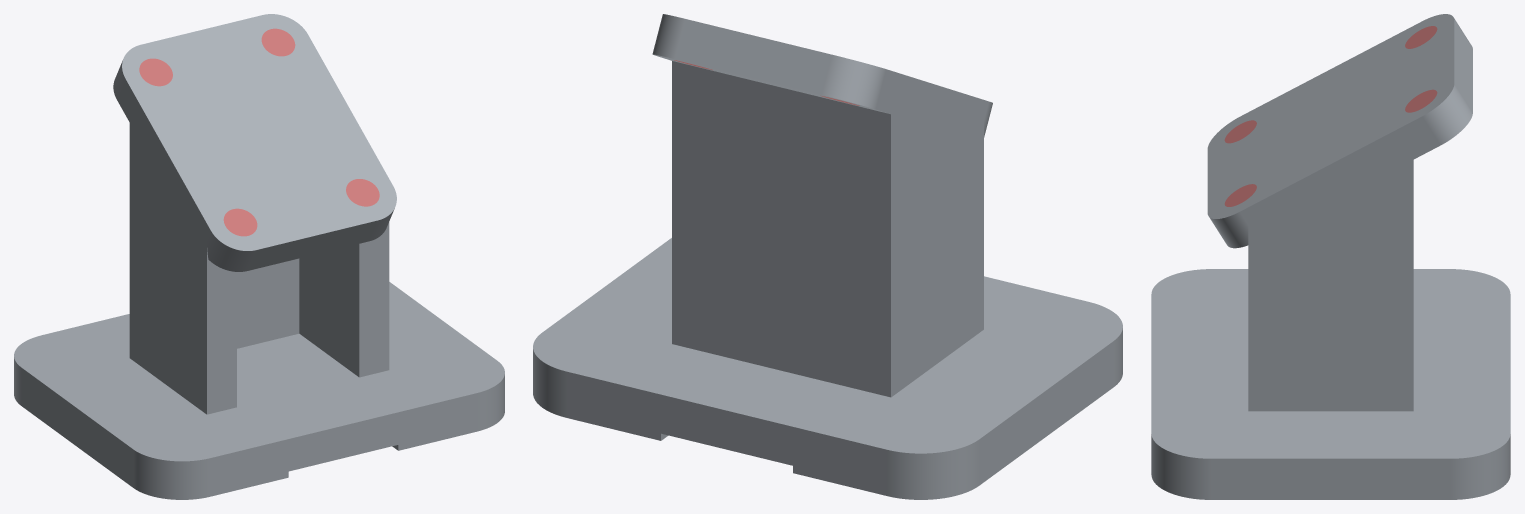
File: step_07.glb
The picture shows the model from 3 angles, left to right: view 1: azimuth 30°, elevation 25°; view 2: azimuth 150°, elevation 25°; view 3: azimuth 270°, elevation 25°; orthographic projection. The views are drawn at different scales.
Visible parts, largest first — view 1: part__angle bracket, removed__angle bracket; view 2: part__angle bracket; view 3: part__angle bracket, removed__angle bracket.
Boxes of the visible parts, left/top/right/bottom form: part__angle bracket: left=14, top=14, right=504, bottom=499; removed__angle bracket: left=139, top=28, right=379, bottom=236; part__angle bracket: left=533, top=14, right=1122, bottom=499; part__angle bracket: left=1151, top=14, right=1510, bottom=499; removed__angle bracket: left=1224, top=26, right=1437, bottom=206.
Bounding box in the file's own units: 95.25 × 82.68 × 76.2.
